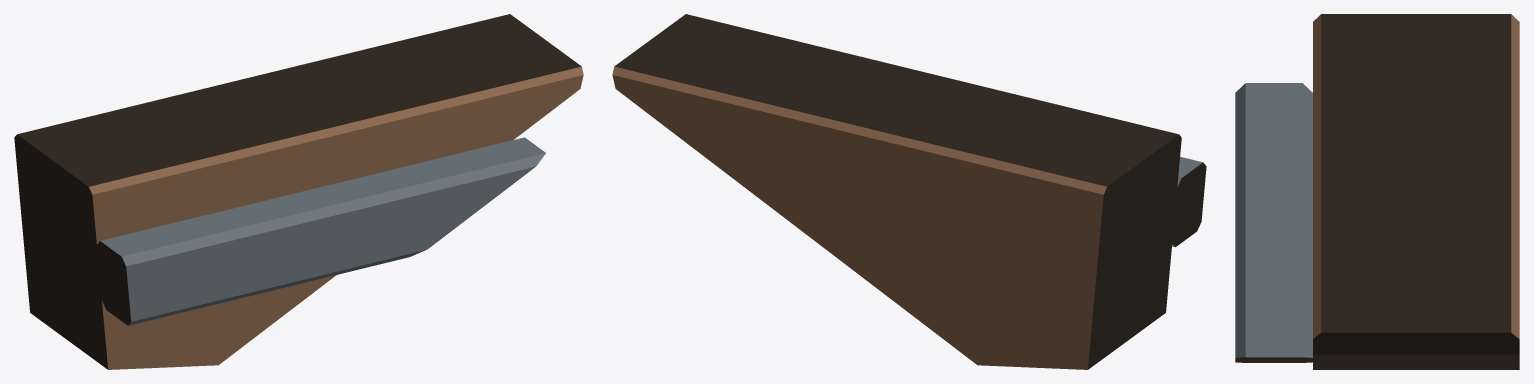
The model's file is SM_DoorShard_02_24.fbx.
3 views of the same model, side by side, from view 1: azimuth 30°, elevation 25°; view 2: azimuth 150°, elevation 25°; view 3: azimuth 270°, elevation 25° (orthographic). The views are drawn at different scales.
Visible parts, largest first — view 1: SM_DoorShard_02_24; view 2: SM_DoorShard_02_24; view 3: SM_DoorShard_02_24.
Boxes of the visible parts, x1,y1,x2,y2 form: SM_DoorShard_02_24: [14, 14, 583, 369]; SM_DoorShard_02_24: [612, 14, 1206, 369]; SM_DoorShard_02_24: [1235, 14, 1519, 369].
Bounding box in the file's own units: 58.34 × 22 × 23.4.
